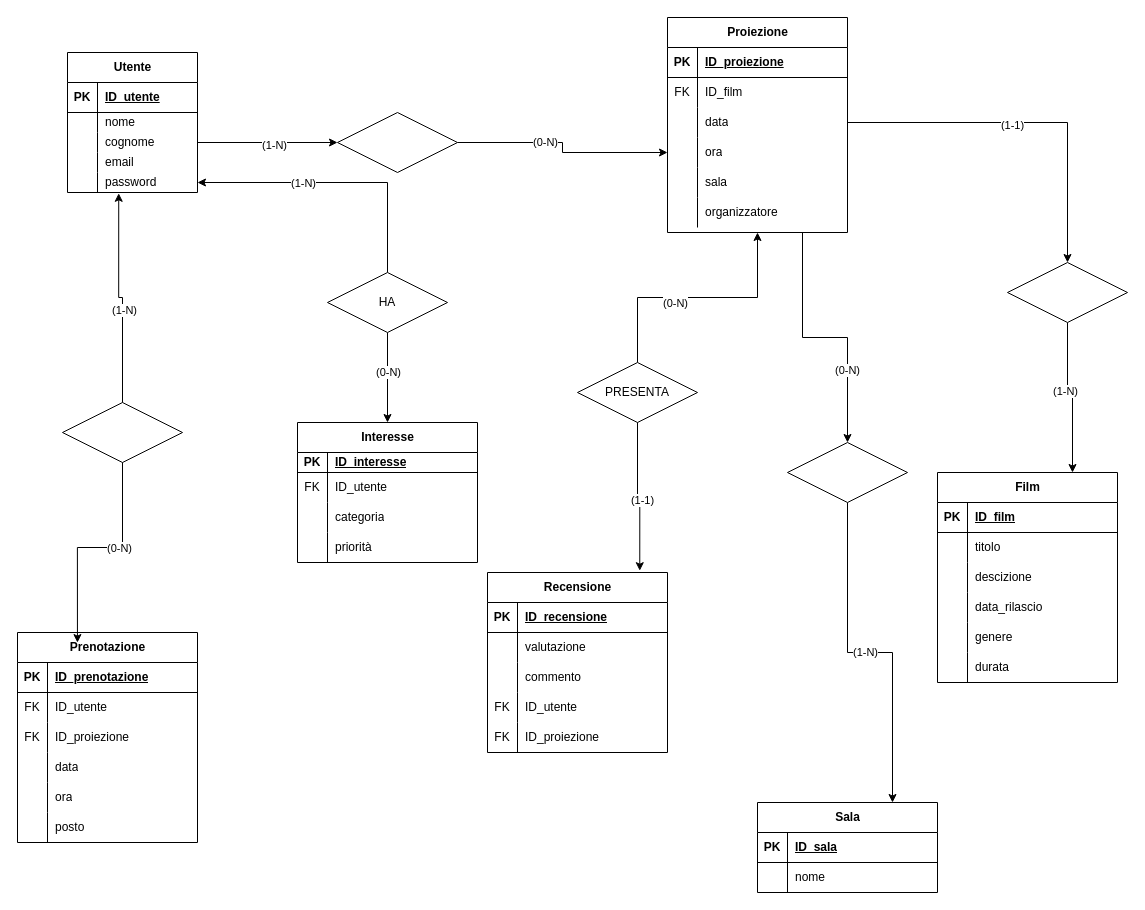
The diagram is 1145 pixels wide and 910 high, and some of its shapes have lost their labels. The box of each missing label's shape, as (x1, y1, x2, y2) in pixels:
EFFETTUARE: (62, 402, 182, 462)
INCLUDERE_FILM: (1006, 262, 1128, 322)
OSPITA: (786, 442, 908, 502)
PARTECIPA: (336, 112, 458, 172)
